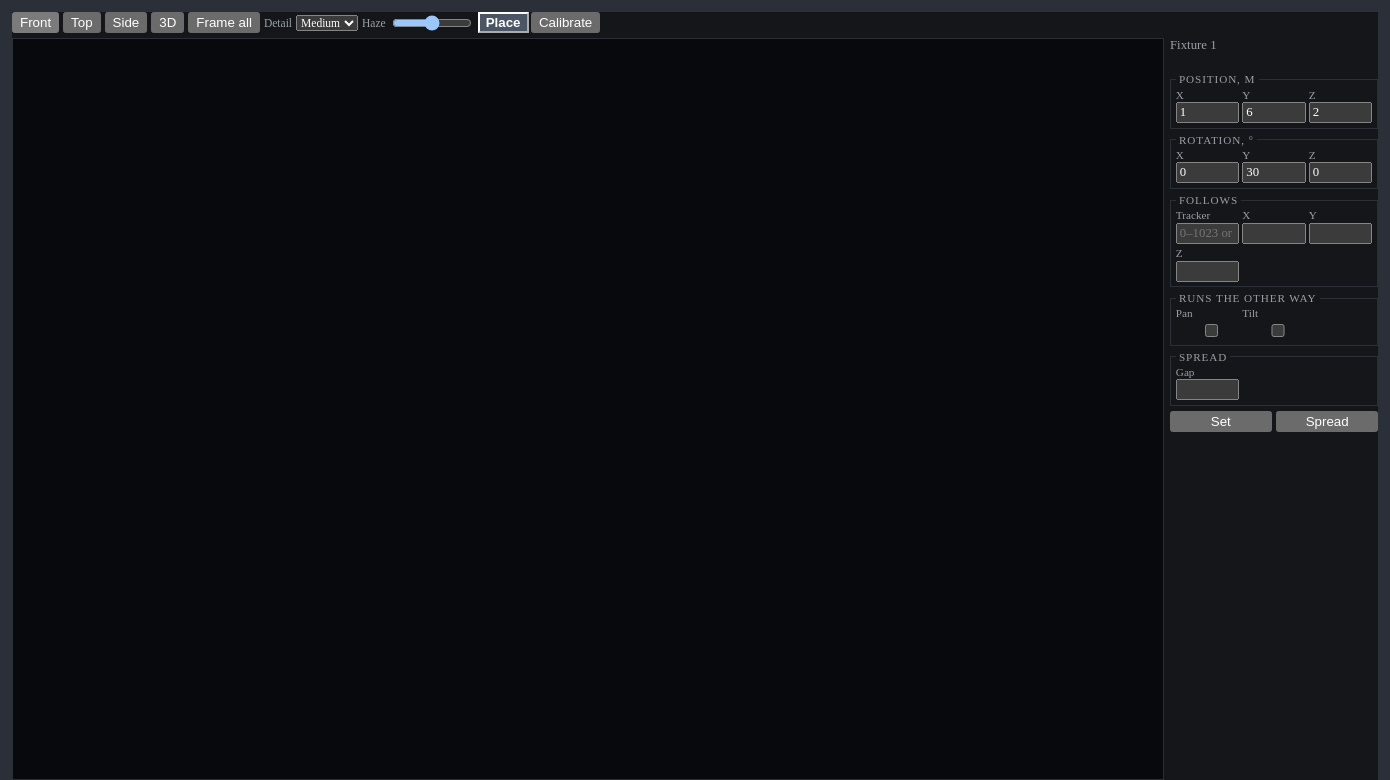
it: the marks › say how to start while there are none
What coordinates should you click on to do the following:
click the button with test id "viewer-panel-calibrate"
I would click on:
 (566, 22)
Its box is x1=531 y1=12 x2=600 y2=33.
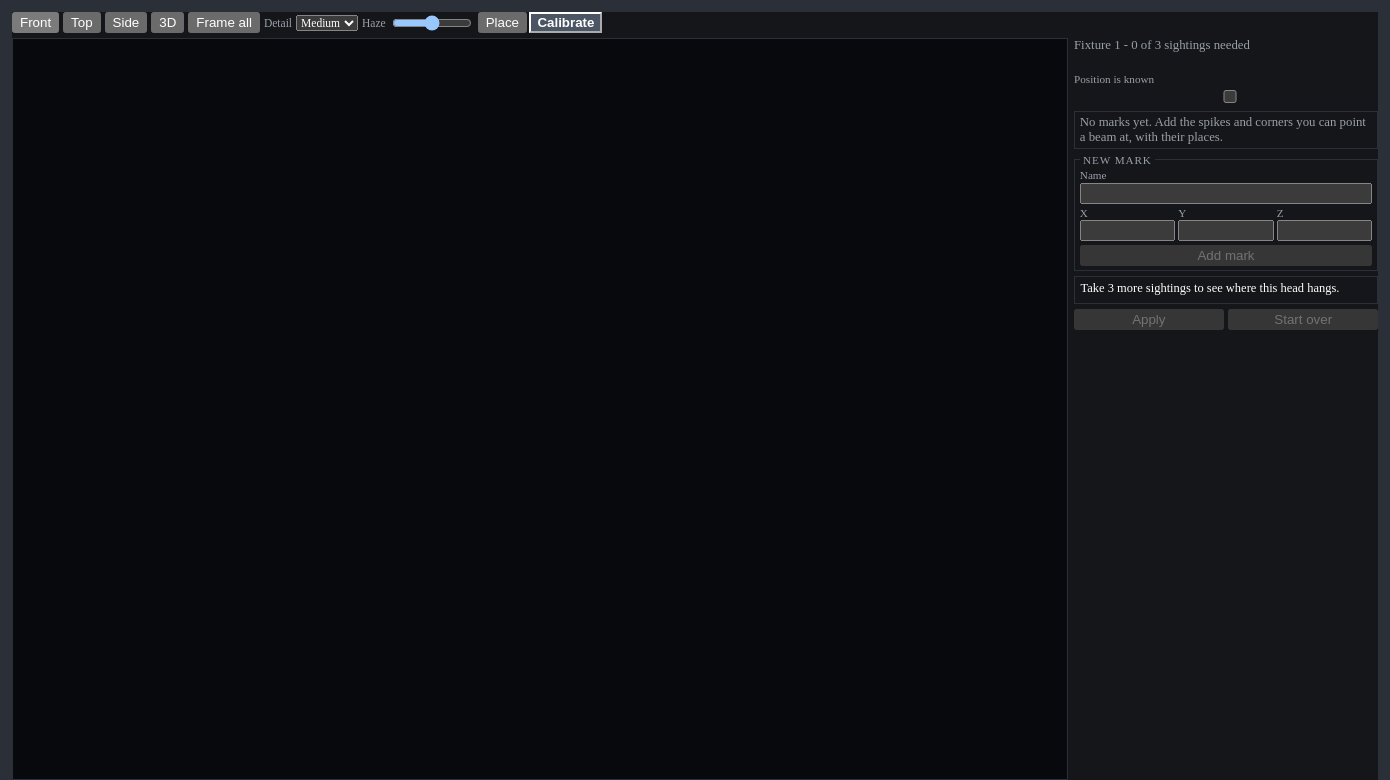
Check: the list with test id "calibration-marks" shows "No marks yet", box x1=1080 y1=115 x2=1366 y2=144
